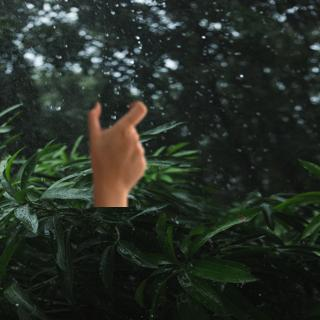Irritated: (87, 94, 149, 197)
